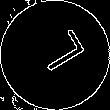L_SW: (25, 29, 85, 81)
